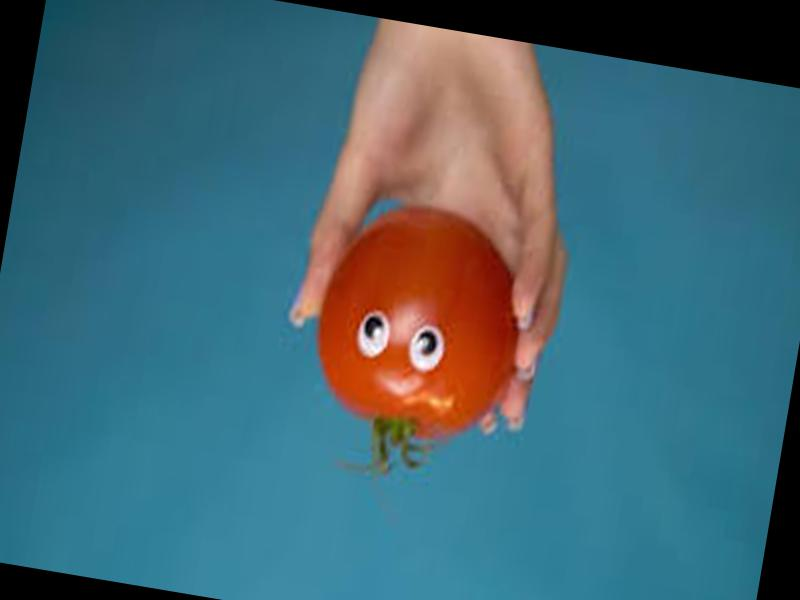Tomato: (300, 191, 539, 454)
